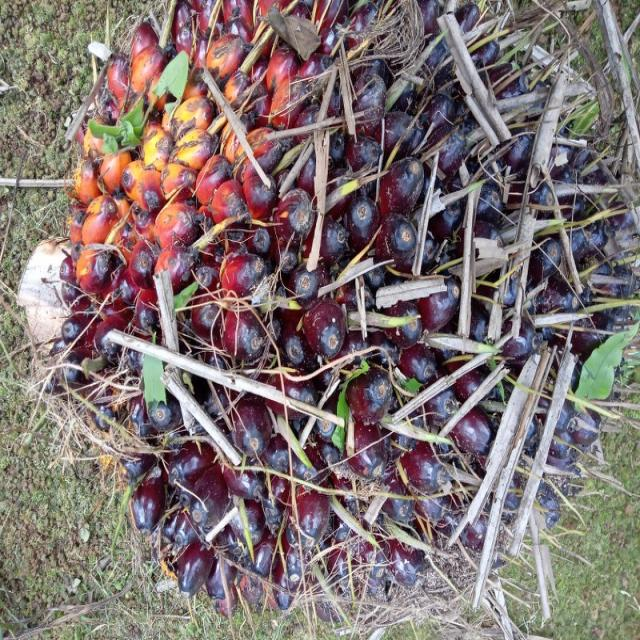fraksi 1: (38, 0, 627, 628)
